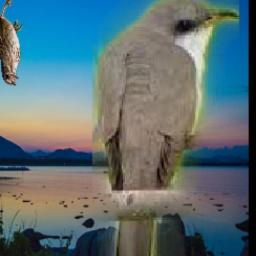Cuckoo: (92, 0, 239, 256)
Sparrow: (0, 0, 22, 86)
